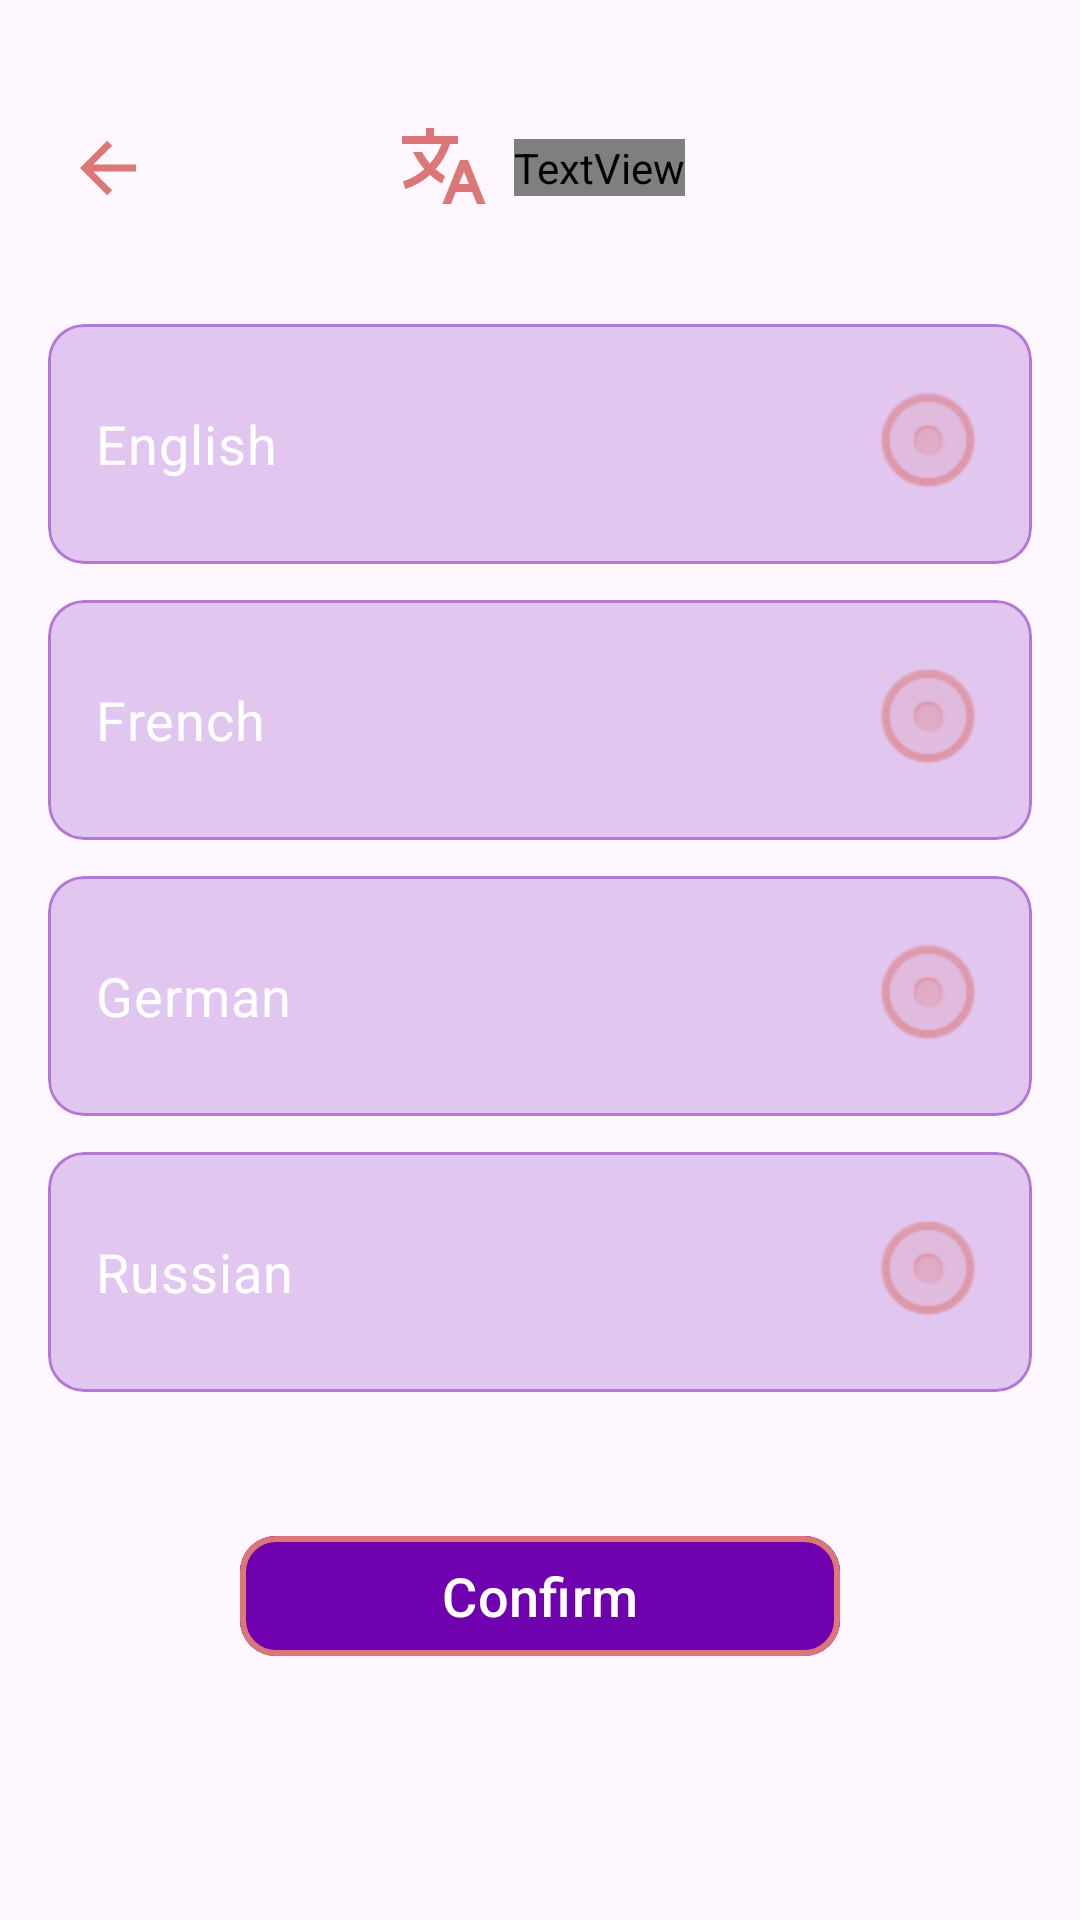

Icon bounding boxes for this 1080w x 1920h phone screenshot, format (x1, y1, x2, y2):
arrow left line: (80, 141, 136, 195)
